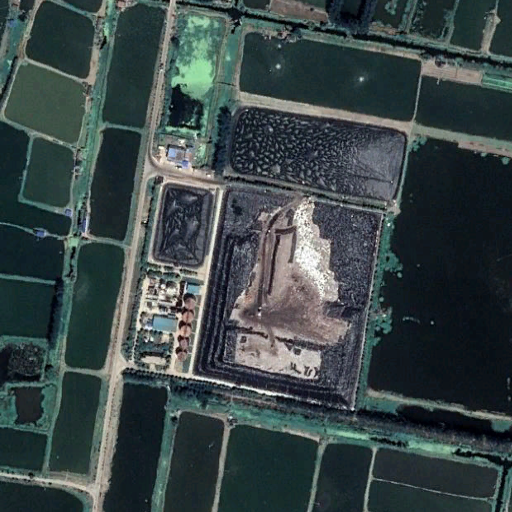lf: (193, 189, 386, 414)
